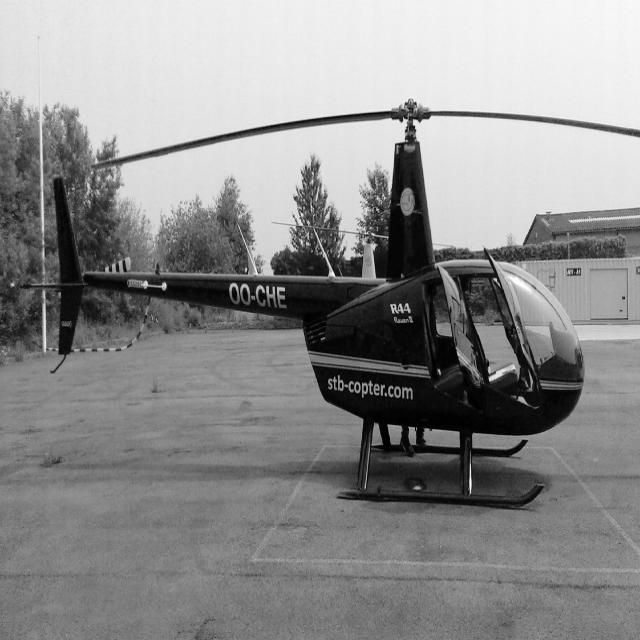helicopter: (22, 95, 638, 520)
